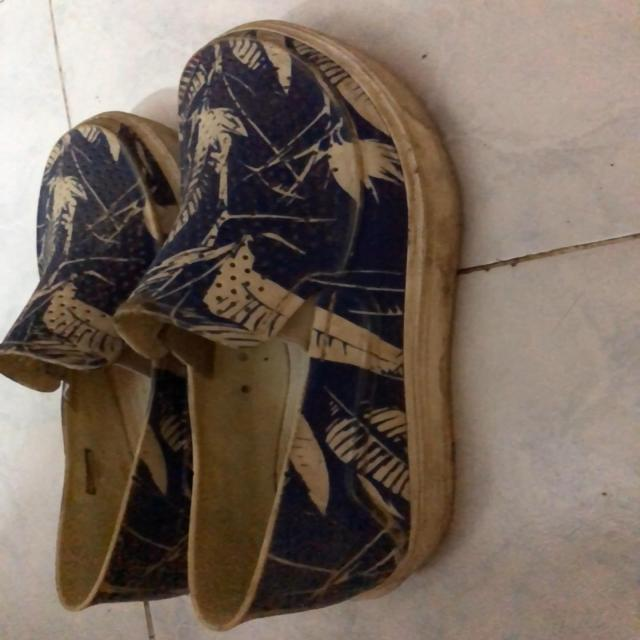shoe: (28, 21, 463, 633), (0, 112, 188, 613)
